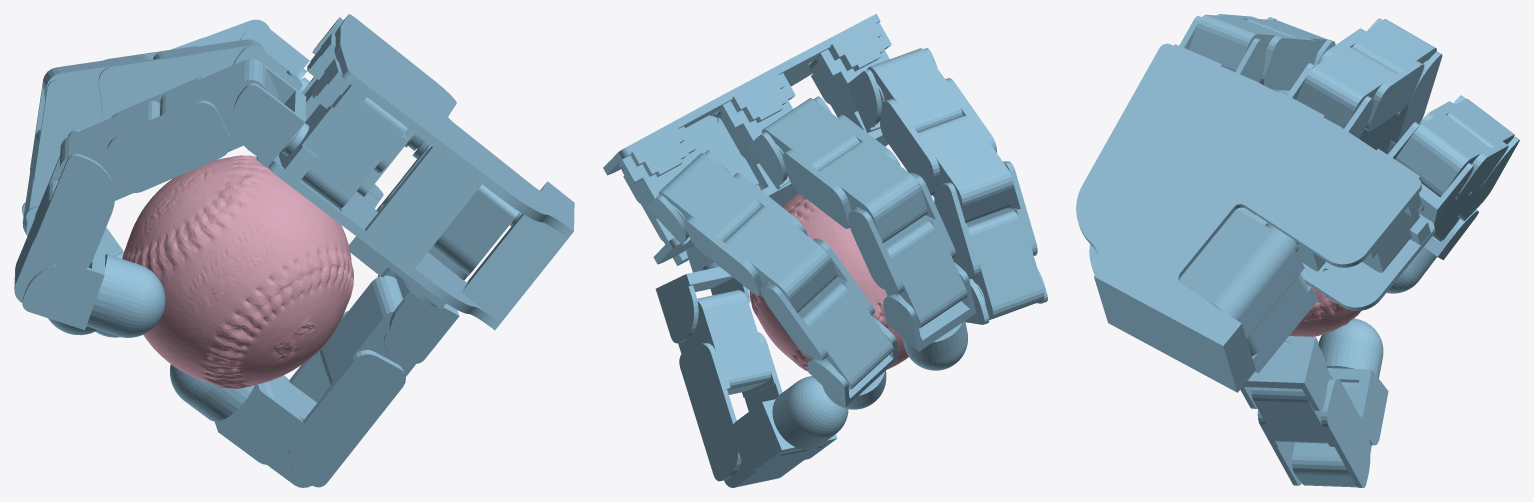
3 renders of one model, left to right at view 1: azimuth 30°, elevation 25°; view 2: azimuth 150°, elevation 25°; view 3: azimuth 270°, elevation 25°, orthographic. The views are drawn at different scales.
Parts seen in each view (by area): view 1: world; view 2: world; view 3: world.
Boxes of the visible parts, x1,y1,x2,y2 form: world: (14,14,574,487); world: (603,14,1047,487); world: (1076,14,1519,487).
Bounding box in the file's own units: 0.1928 × 0.1706 × 0.1613.
